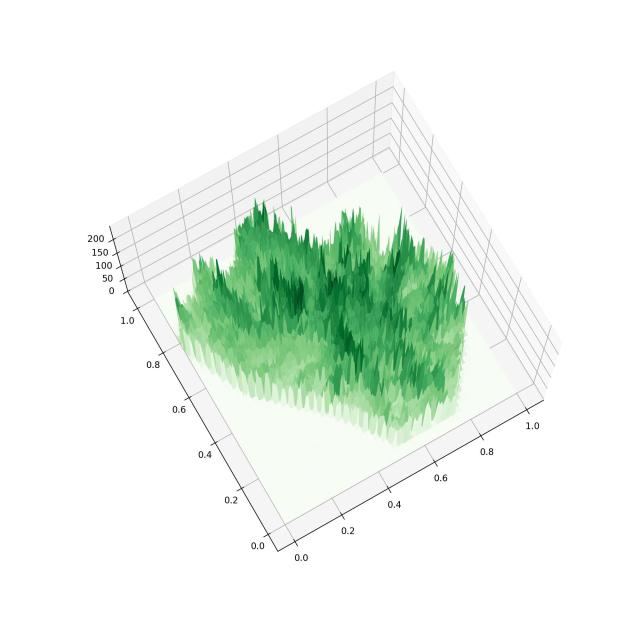spruce: (73, 57, 591, 586)
